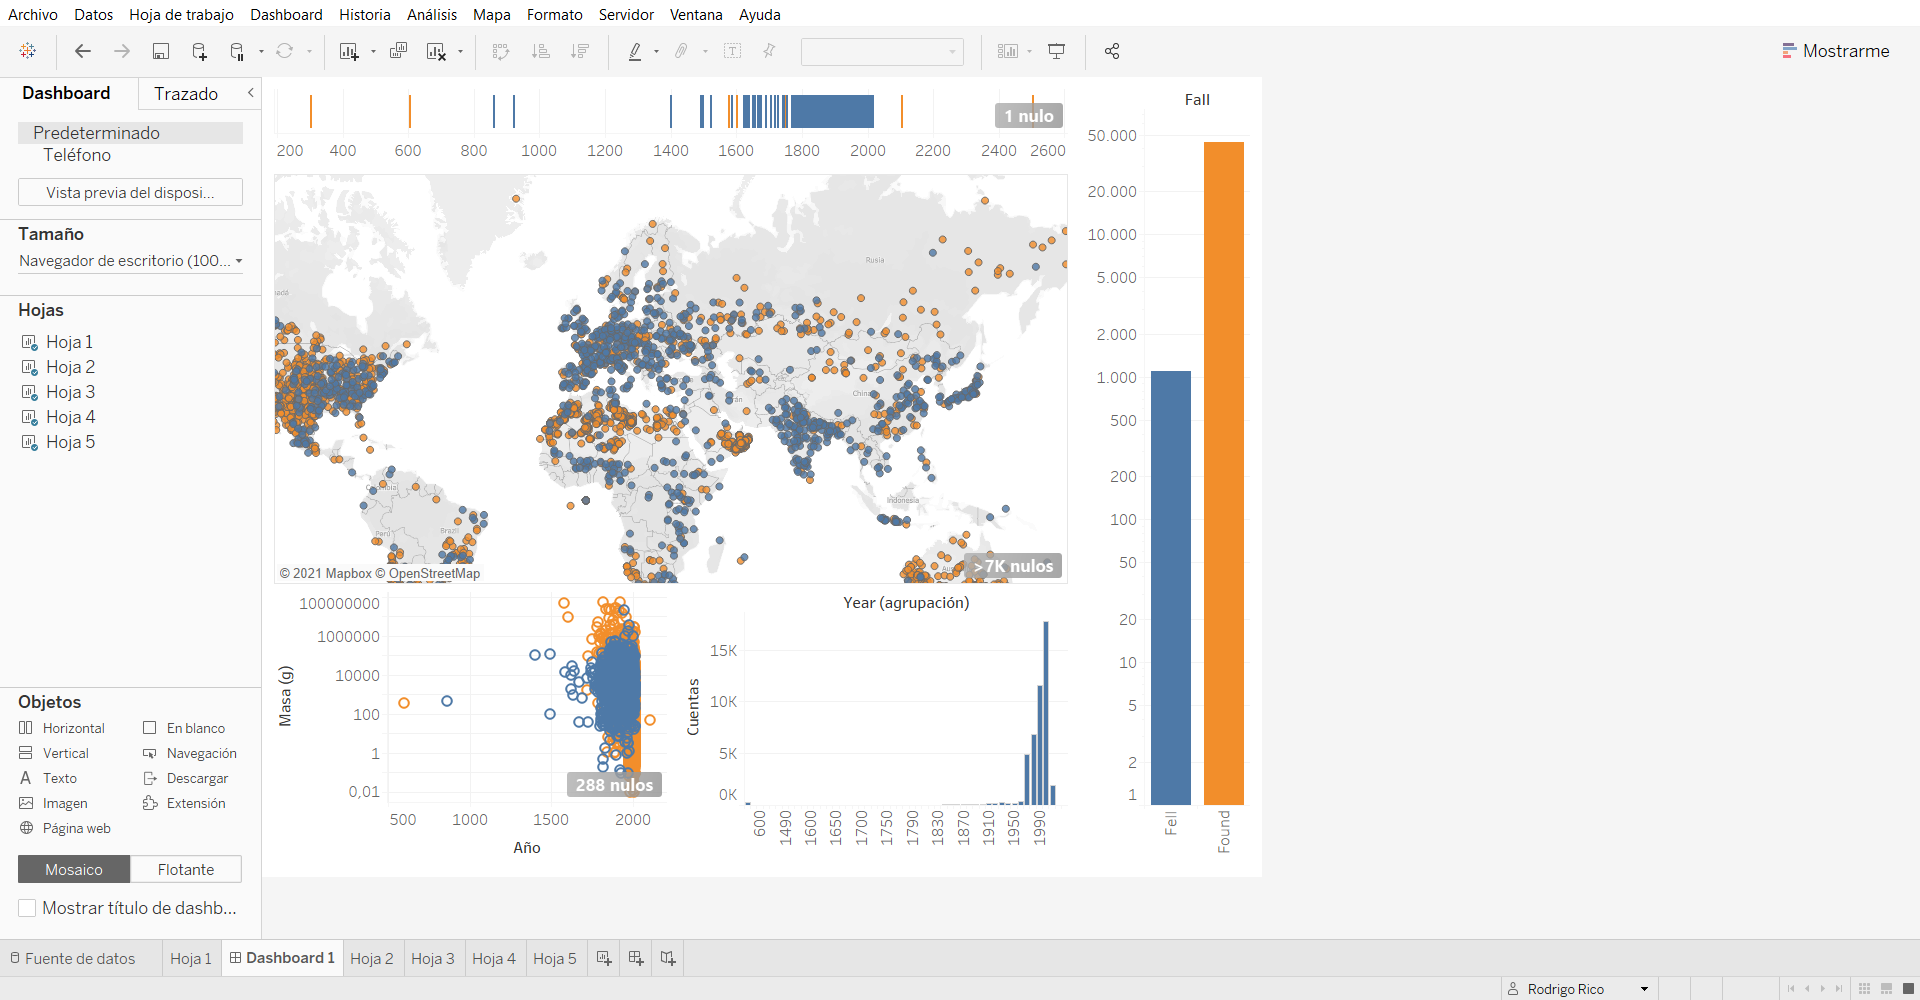

Layout of this report page (visuals, bound fields, positions):
{"tool":"tableau","page":{"name":"Dashboard 1","canvas":[1000,800],"ordinal":0},"visuals":[{"type":"worksheet","box":[0,0,1000,800]},{"type":"worksheet","param":"horz","box":[8,8,984,784]},{"type":"worksheet","box":[8,8,984,784]},{"type":"worksheet","title":"Hoja 5","mark":"Automatic","cols":["year"],"box":[8,8,802,85]},{"type":"worksheet","title":"Hoja 1","mark":"Automatic","rows":["id"],"cols":["fall"],"box":[810,8,182,784]},{"type":"worksheet","param":"horz","box":[8,93,802,699]},{"type":"worksheet","box":[8,93,802,699]},{"type":"worksheet","title":"Hoja 2","mark":"Automatic","box":[8,93,802,418.2]},{"type":"worksheet","title":"Hoja 3","mark":"Automatic","rows":["mass"],"cols":["year"],"box":[8,511.2,401,280.8]},{"type":"worksheet","title":"Hoja 4","mark":"Automatic","rows":["id"],"cols":["Year (agrupación)"],"box":[409,511.2,401,280.8]}]}

Visuals, with their boxes on the page's 1000x800 design canvas (x1, y1, x2, y2). These are canvas units, not pixel positions in the 1920x1000 screenshot, which may show the page scaled, cropped or inside an application window:
worksheet: rect(0, 0, 1000, 800)
worksheet: rect(8, 8, 992, 792)
worksheet: rect(8, 8, 992, 792)
"Hoja 5" worksheet: rect(8, 8, 810, 93)
"Hoja 1" worksheet: rect(810, 8, 992, 792)
worksheet: rect(8, 93, 810, 792)
worksheet: rect(8, 93, 810, 792)
"Hoja 2" worksheet: rect(8, 93, 810, 511)
"Hoja 3" worksheet: rect(8, 511, 409, 792)
"Hoja 4" worksheet: rect(409, 511, 810, 792)
